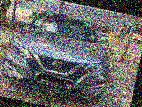car: (0, 3, 119, 104)
